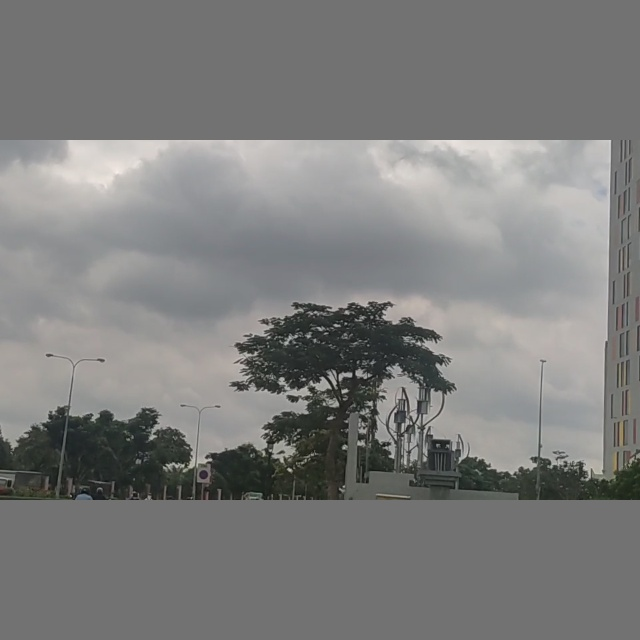P.130: (199, 469, 209, 481)
